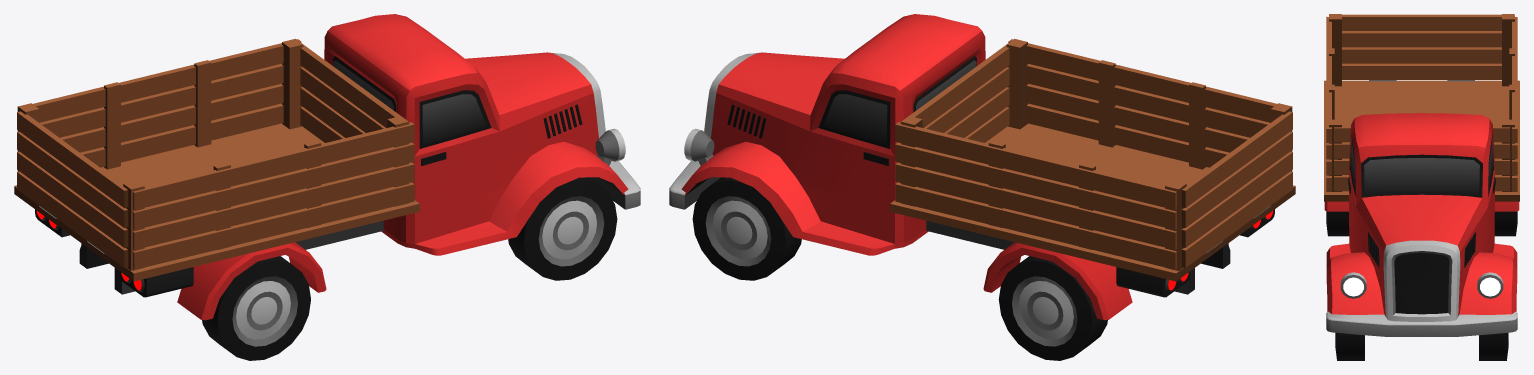
File: Car_026.glb
3 renders of one model, left to right at view 1: azimuth 30°, elevation 25°; view 2: azimuth 150°, elevation 25°; view 3: azimuth 270°, elevation 25°, orthographic. The views are drawn at different scales.
Visible parts, largest first — view 1: Car_026, wheel_3_Car_026_Wheel_2R, wheel_1_Car_026_Wheel_1R; view 2: Car_026, wheel_2_Car_026_Wheel_2L, wheel_0_Car_026_Wheel_1L; view 3: Car_026, wheel_0_Car_026_Wheel_1L, wheel_1_Car_026_Wheel_1R, wheel_2_Car_026_Wheel_2L, wheel_3_Car_026_Wheel_2R.
Boxes of the visible parts, x1,y1,x2,y2 form: Car_026: (14,14,640,320); wheel_3_Car_026_Wheel_2R: (202,256,310,360); wheel_1_Car_026_Wheel_1R: (508,177,617,280); Car_026: (669,14,1295,320); wheel_2_Car_026_Wheel_2L: (998,256,1107,360); wheel_0_Car_026_Wheel_1L: (692,177,801,280); Car_026: (1324,14,1519,336); wheel_0_Car_026_Wheel_1L: (1479,332,1508,360); wheel_1_Car_026_Wheel_1R: (1335,332,1364,360); wheel_2_Car_026_Wheel_2L: (1494,211,1517,236); wheel_3_Car_026_Wheel_2R: (1326,211,1349,236).
Bounding box in the file's own units: 5.33 × 2.23 × 2.1.
Materials: 2 (2 with a texture image).
